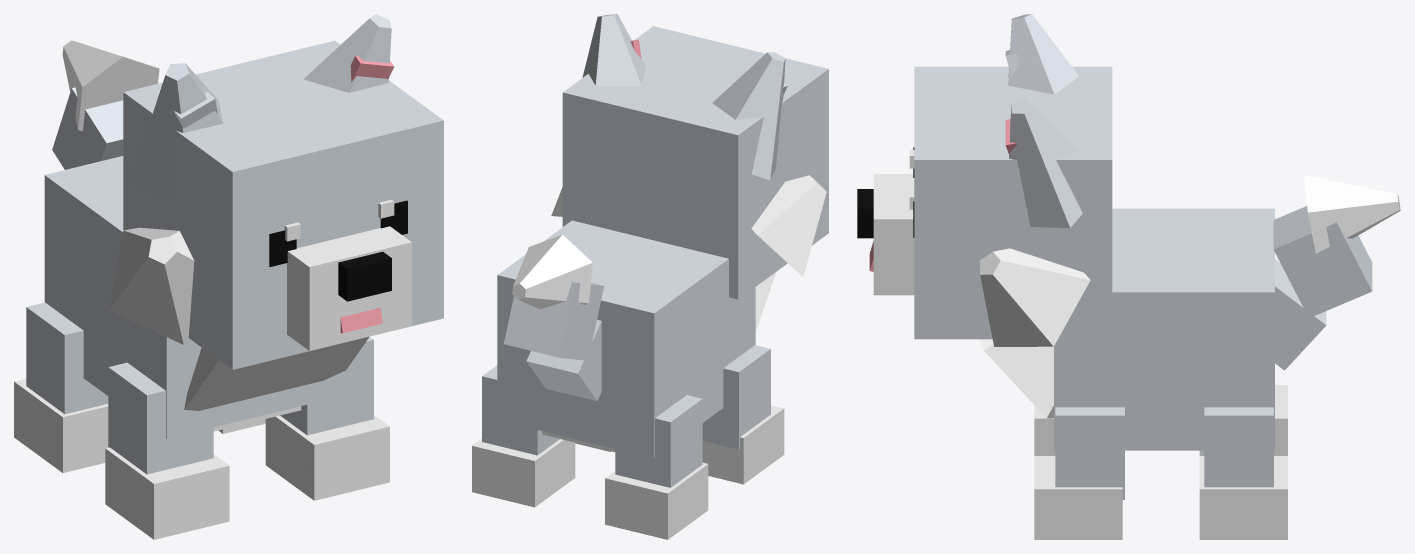
File: wolfpup.obj
The picture shows the model from 3 angles, left to right: view 1: azimuth 30°, elevation 25°; view 2: azimuth 150°, elevation 25°; view 3: azimuth 270°, elevation 25°; orthographic projection. The views are drawn at different scales.
Parts seen in each view (by area): view 1: WolfPupMesh; view 2: WolfPupMesh; view 3: WolfPupMesh.
Boxes of the visible parts, x1,y1,x2,y2 form: WolfPupMesh: (14, 14, 443, 539); WolfPupMesh: (472, 14, 828, 539); WolfPupMesh: (857, 14, 1400, 539).
Bounding box in the file's own units: 1.36 × 2.04 × 2.33.
